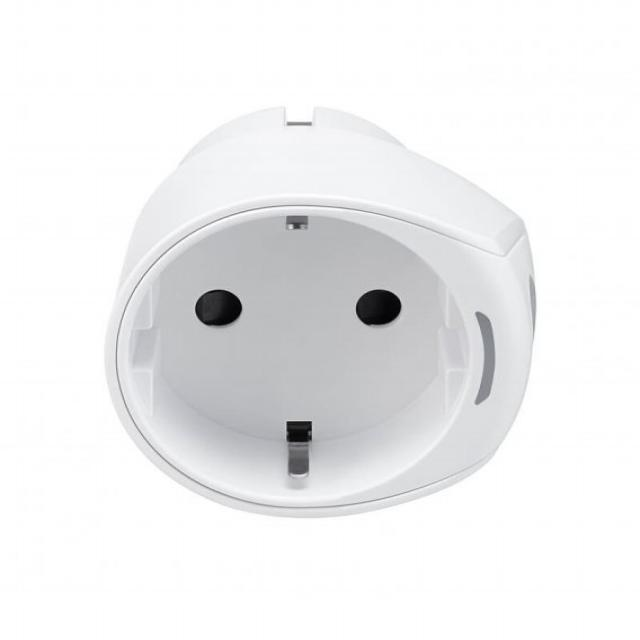typeb: (111, 168, 517, 503)
